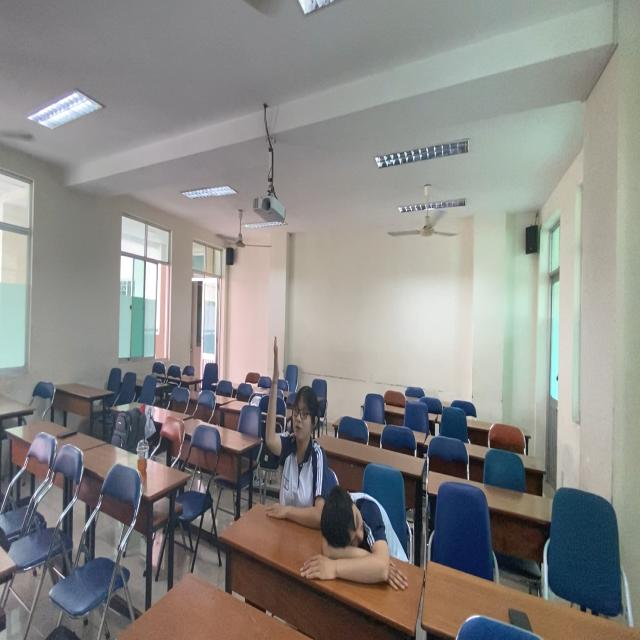raise_hand: (262, 334, 328, 525)
sleep: (296, 484, 408, 595)
